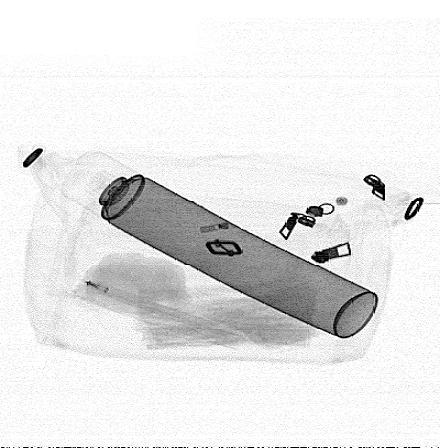Sprayer: (61, 152, 377, 340)
